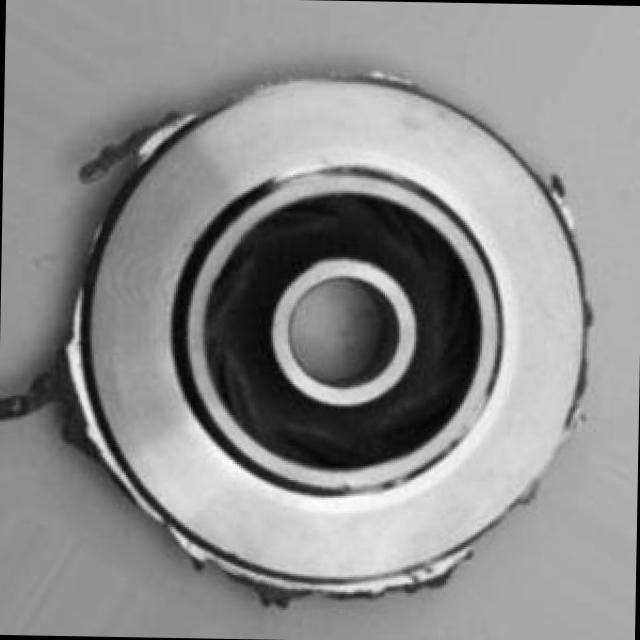Defect: (67, 130, 172, 184)
